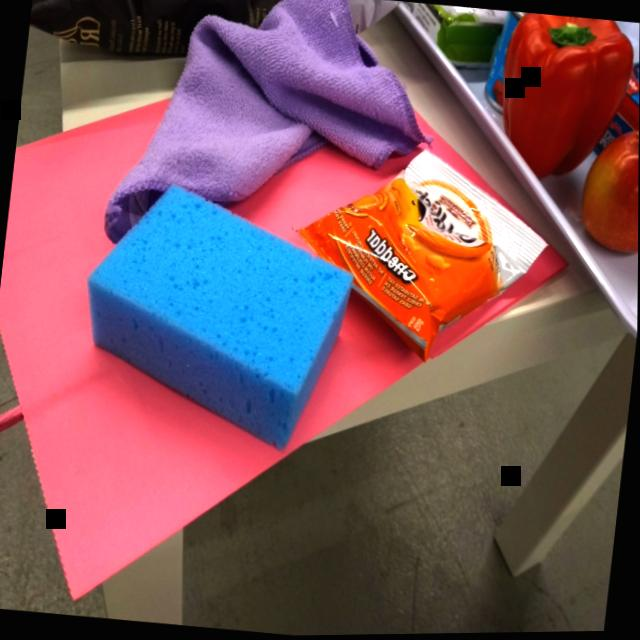cloth_opl: (98, 0, 454, 287)
crackers: (274, 126, 564, 386)
paprika: (487, 11, 639, 197)
sponge_opl: (66, 167, 366, 468)
